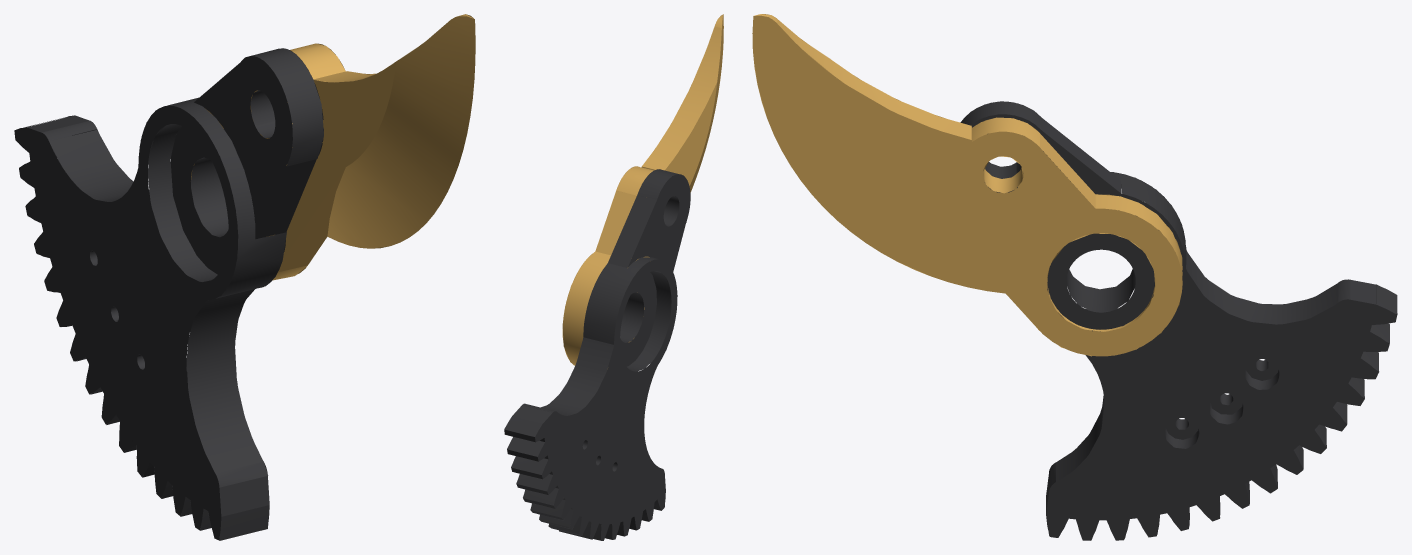
File: ee_cutter_blade.obj
3 renders of one model, left to right at view 1: azimuth 30°, elevation 25°; view 2: azimuth 150°, elevation 25°; view 3: azimuth 270°, elevation 25°, orthographic. The views are drawn at different scales.
Parts seen in each view (by area): view 1: =>[0:1:1:8]; view 2: =>[0:1:1:8]; view 3: =>[0:1:1:8].
Boxes of the visible parts, <box> form: =>[0:1:1:8]: <box>14,14,475,540</box>; =>[0:1:1:8]: <box>504,14,723,540</box>; =>[0:1:1:8]: <box>752,14,1397,540</box>.
Size of the model in its own units: 0.0121 by 0.0877 by 0.0951.
